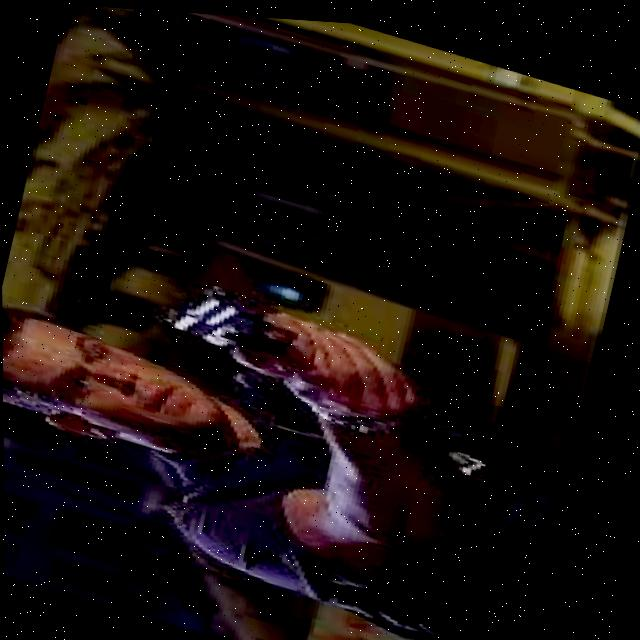pistol: (150, 265, 307, 364)
